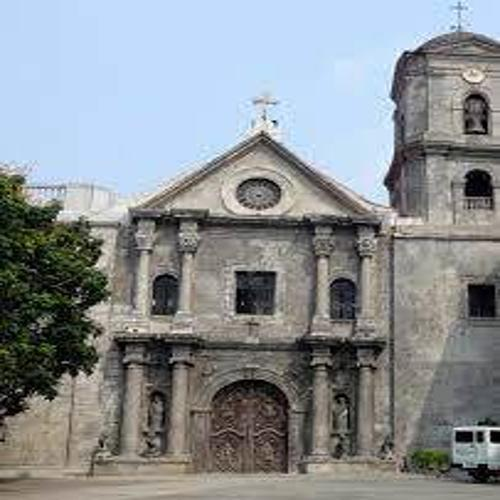San Agustin Church: (117, 2, 500, 471)
